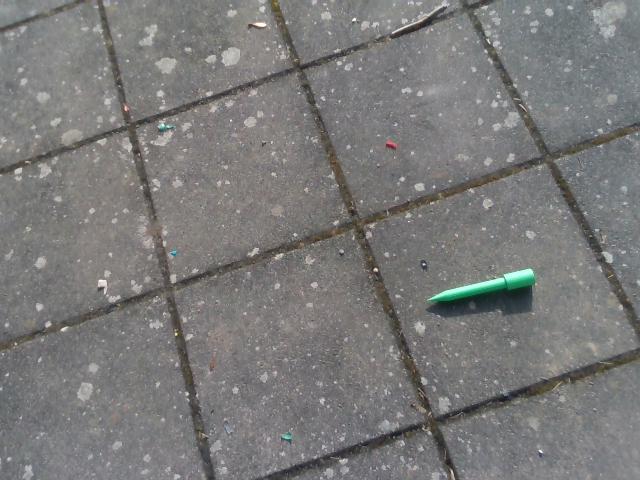Probe: (424, 264, 539, 307)
